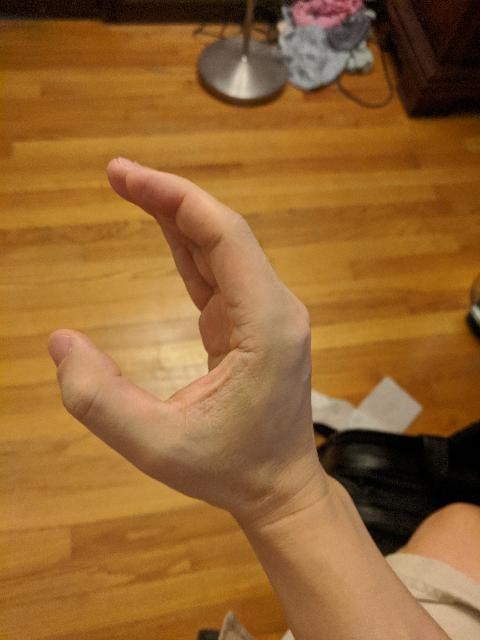C: (40, 149, 316, 509)
